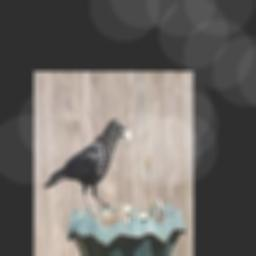Crow: (42, 118, 130, 217)
